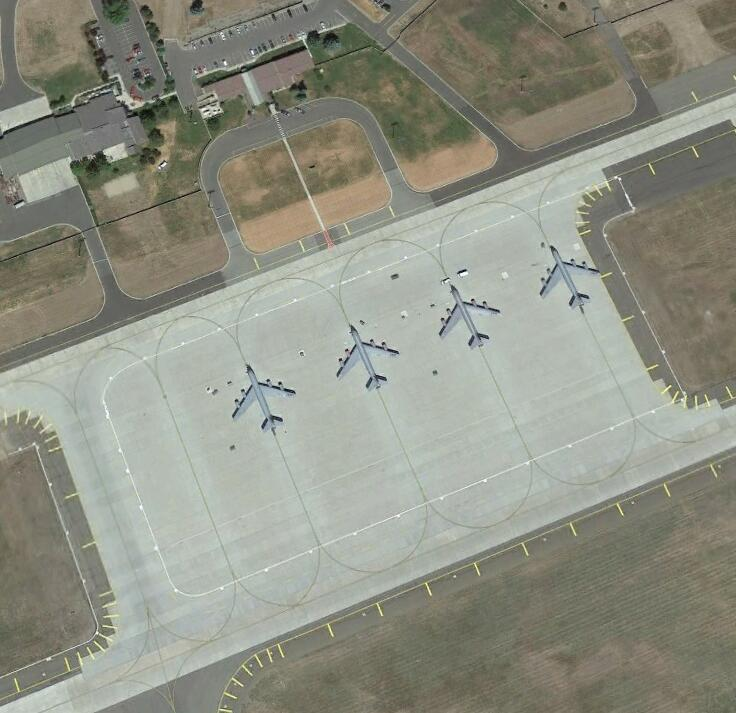A14: (227, 364, 298, 433), (334, 324, 402, 392), (435, 283, 501, 350), (536, 246, 603, 310)
